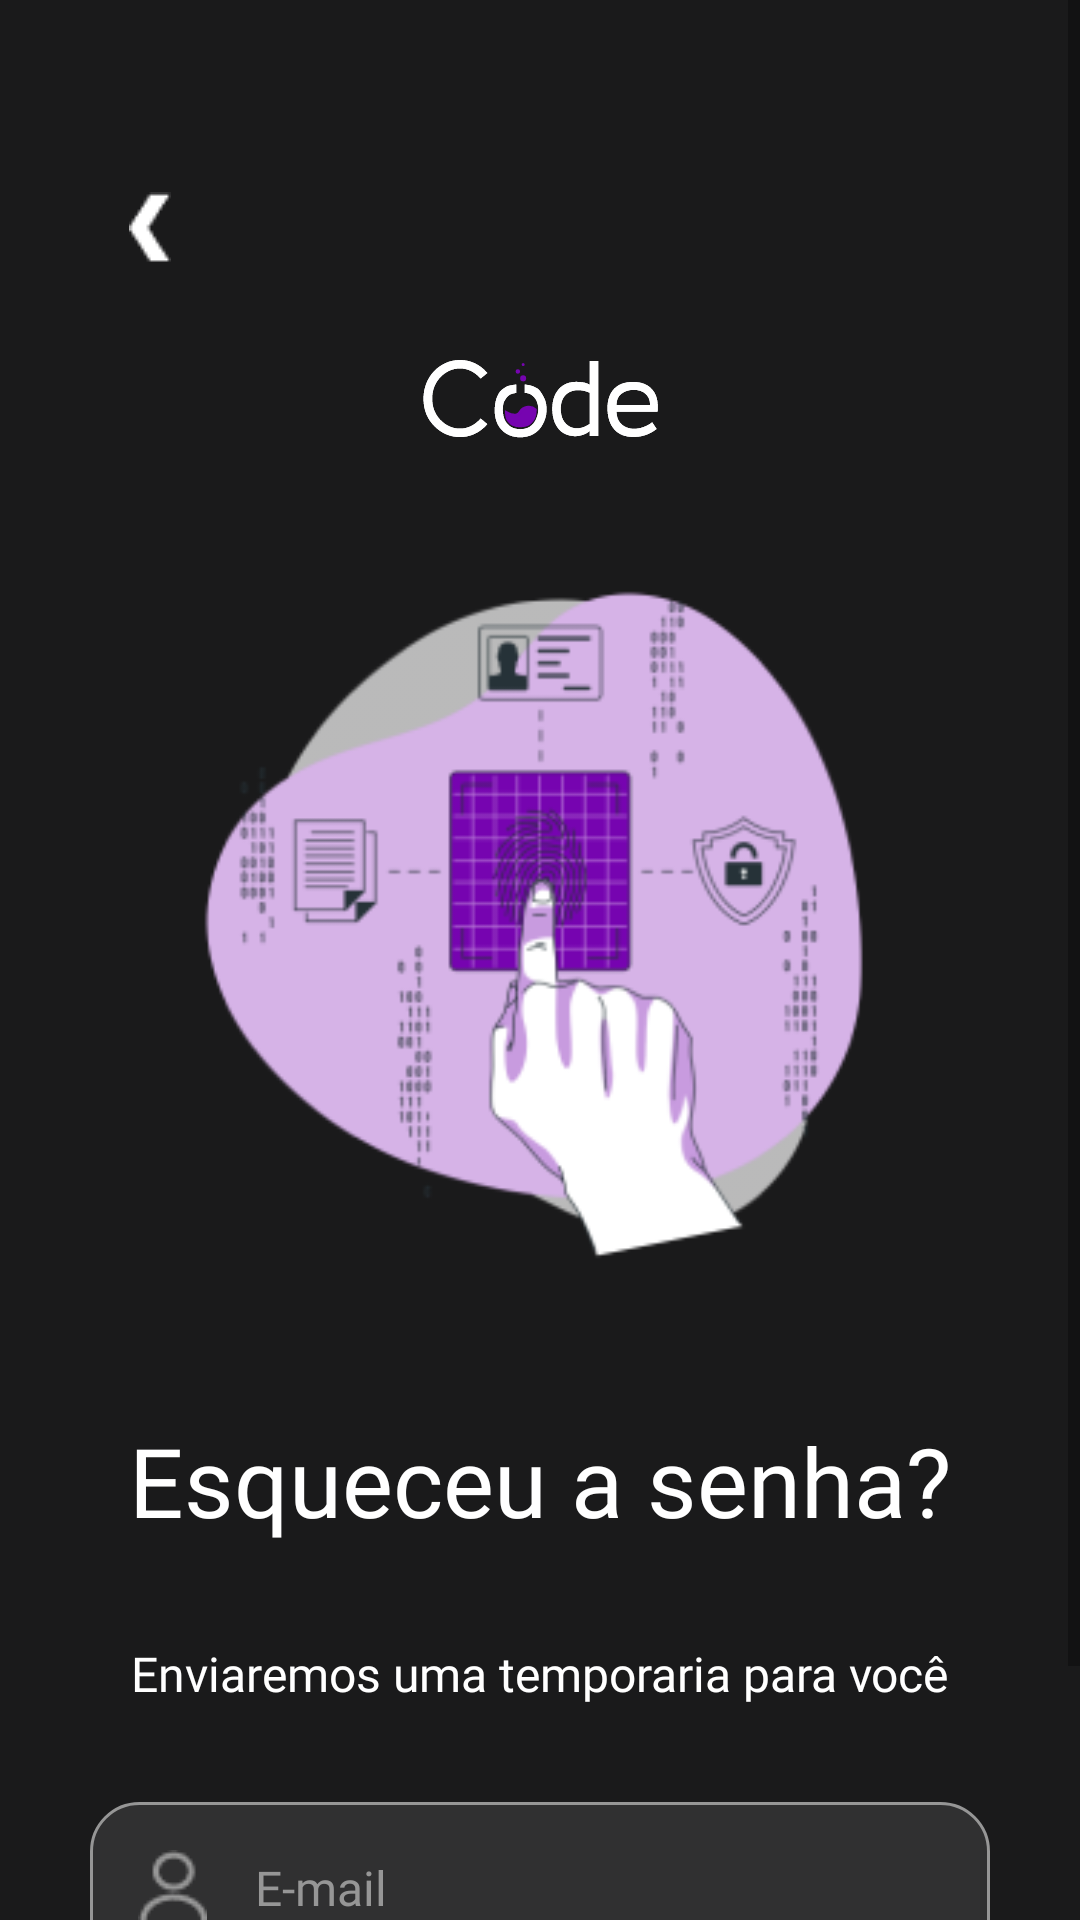

Screen size 1080*1920. Icon name, then its center in pixels as point (x, y):
arrow back: point (150, 227)
